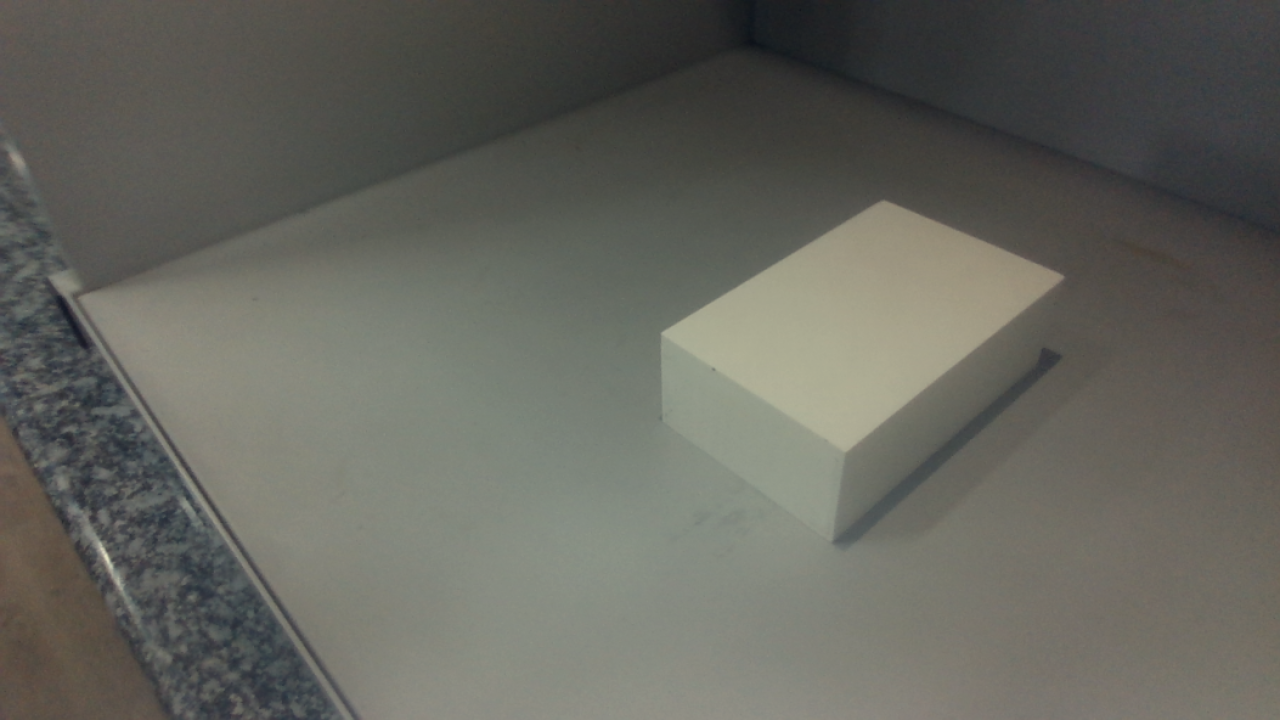Retangulo: (661, 202, 1062, 540)
